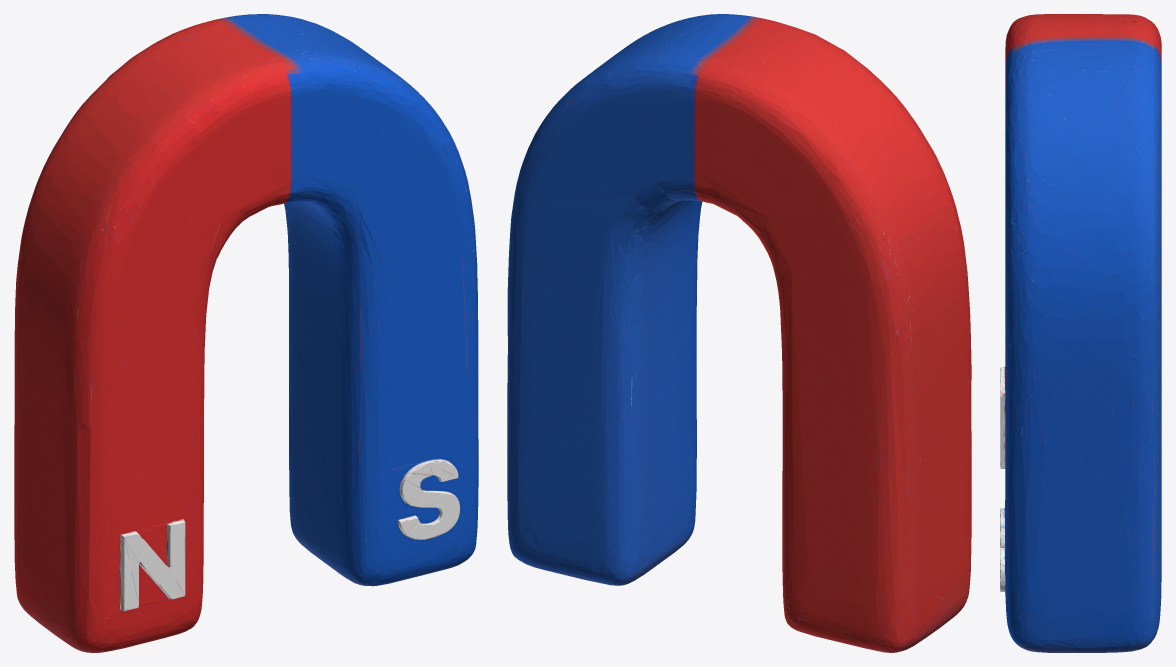
Rendered from Horseshoe_Magnet.glb.
3 views of the same model, side by side, from view 1: azimuth 30°, elevation 25°; view 2: azimuth 150°, elevation 25°; view 3: azimuth 270°, elevation 25° (orthographic). The views are drawn at different scales.
Parts seen in each view (by area): view 1: mesh_node; view 2: mesh_node; view 3: mesh_node.
Boxes of the visible parts, x1,y1,x2,y2 form: mesh_node: (14, 14, 478, 652); mesh_node: (507, 14, 971, 652); mesh_node: (1000, 14, 1161, 652).
Size of the model in its own units: 1.48 by 1.9 by 0.5257.
Materials: 1 (1 with a texture image).
